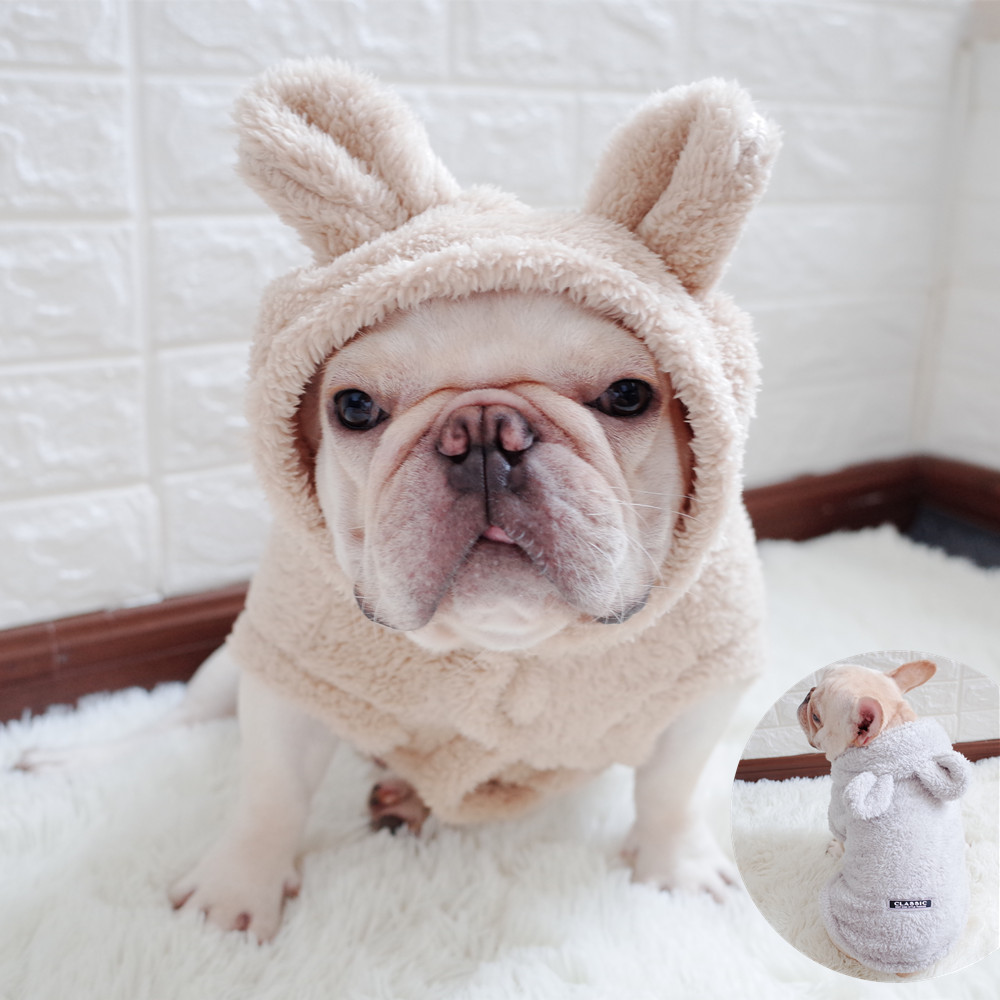dog: (172, 27, 792, 990), (796, 640, 1000, 1000)
